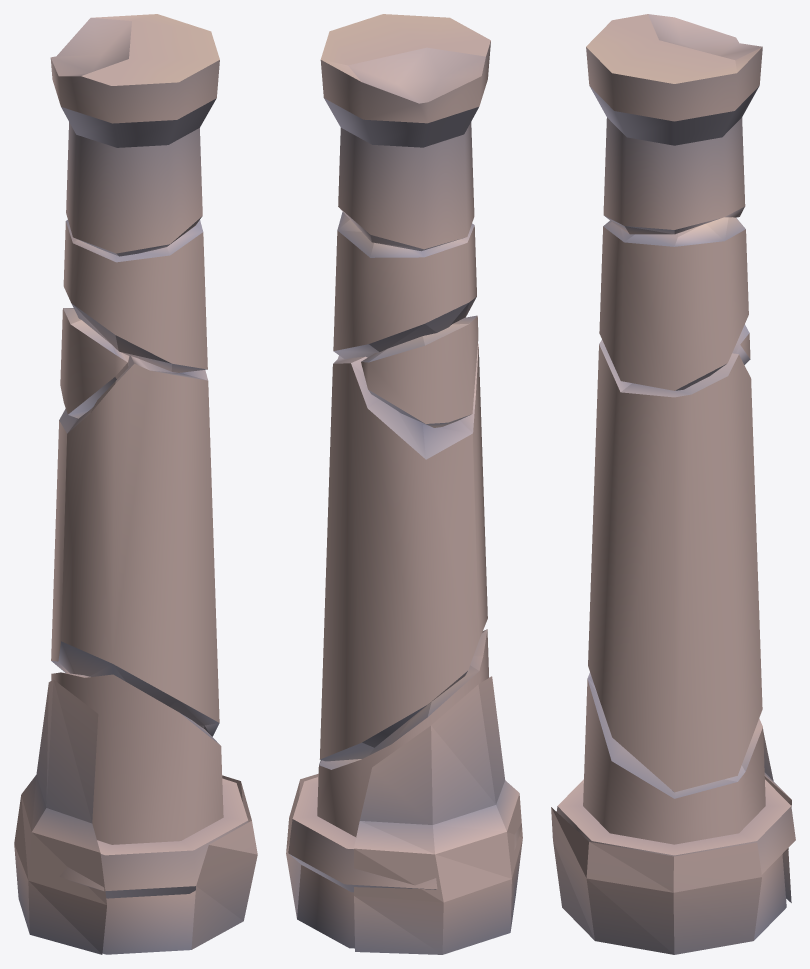
The model's file is RoundPillarFly.gltf.
3 views of the same model, side by side, from view 1: azimuth 30°, elevation 25°; view 2: azimuth 150°, elevation 25°; view 3: azimuth 270°, elevation 25° (orthographic).
Parts seen in each view (by area): view 1: RoundPillarFlyMesh, RoundPillarBaseMesh; view 2: RoundPillarFlyMesh, RoundPillarBaseMesh; view 3: RoundPillarFlyMesh, RoundPillarBaseMesh.
Boxes of the visible parts, box(x1,y1,x2,y2) form: RoundPillarFlyMesh: box(50, 14, 219, 736); RoundPillarBaseMesh: box(14, 672, 257, 954); RoundPillarFlyMesh: box(319, 14, 490, 761); RoundPillarBaseMesh: box(286, 629, 522, 954); RoundPillarFlyMesh: box(586, 14, 762, 792); RoundPillarBaseMesh: box(551, 672, 795, 954).
Size of what is drawn, in the model's own units: 1.89 by 7.22 by 1.86.
